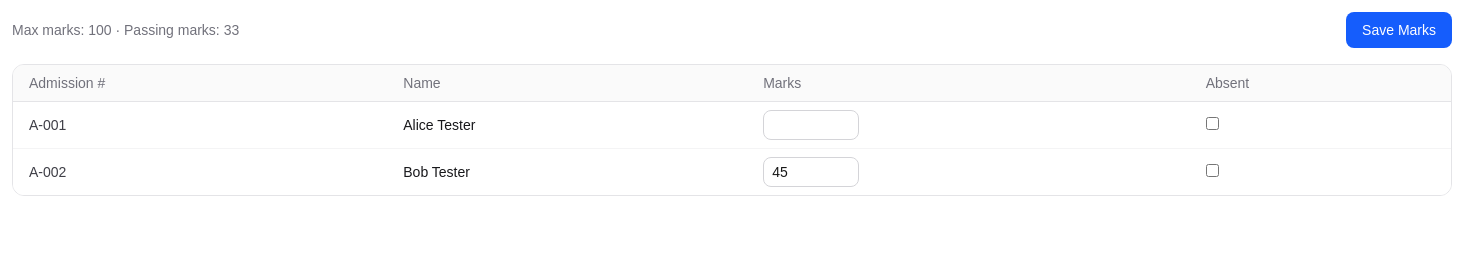
MarksEntryGrid › submits entered marks and shows a success message
Step 1. Type "80" into the number field in the row of "A-001" → (811, 125), box top-left (763, 110), bottom-right (859, 140)
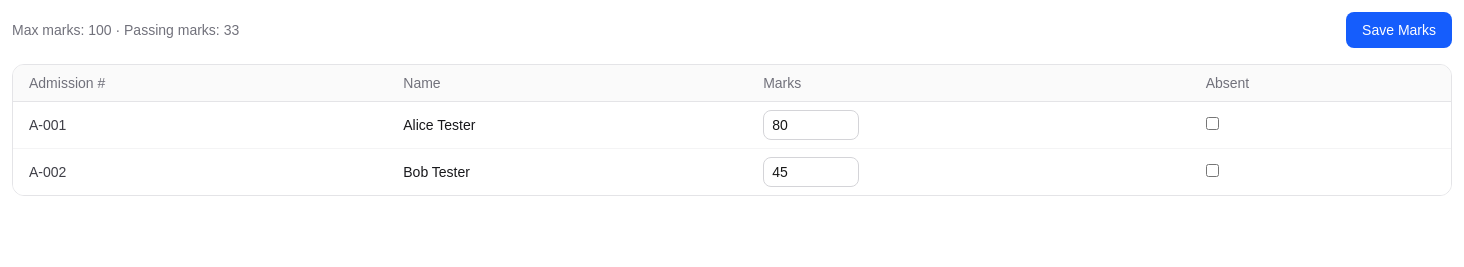
Step 2. Click the button "Save Marks" → (1399, 30), box top-left (1346, 12), bottom-right (1452, 48)
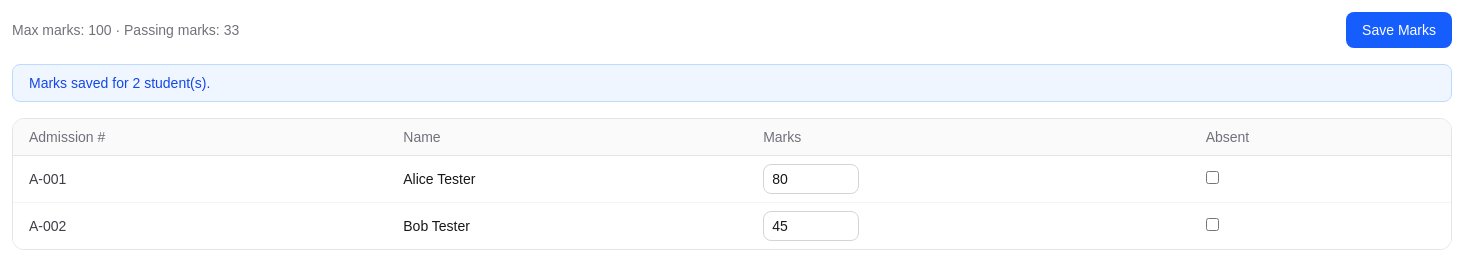
Expected: the text "Marks saved for 2 student(s)." is shown, top-left (12, 64), bottom-right (1452, 102)
